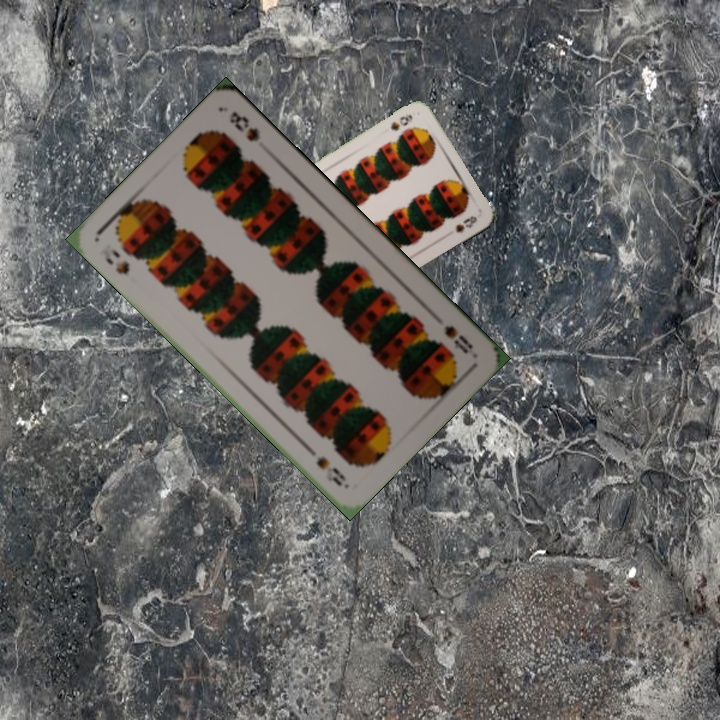S8: (440, 321, 476, 356), (101, 244, 132, 277), (386, 109, 415, 134)
